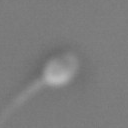normal: (1, 77, 44, 128)
